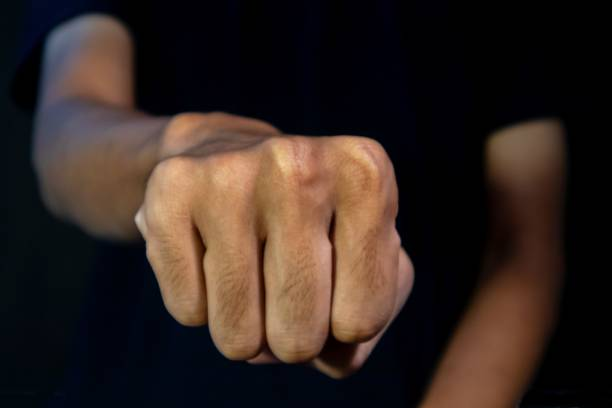Yes: (129, 115, 425, 373)
